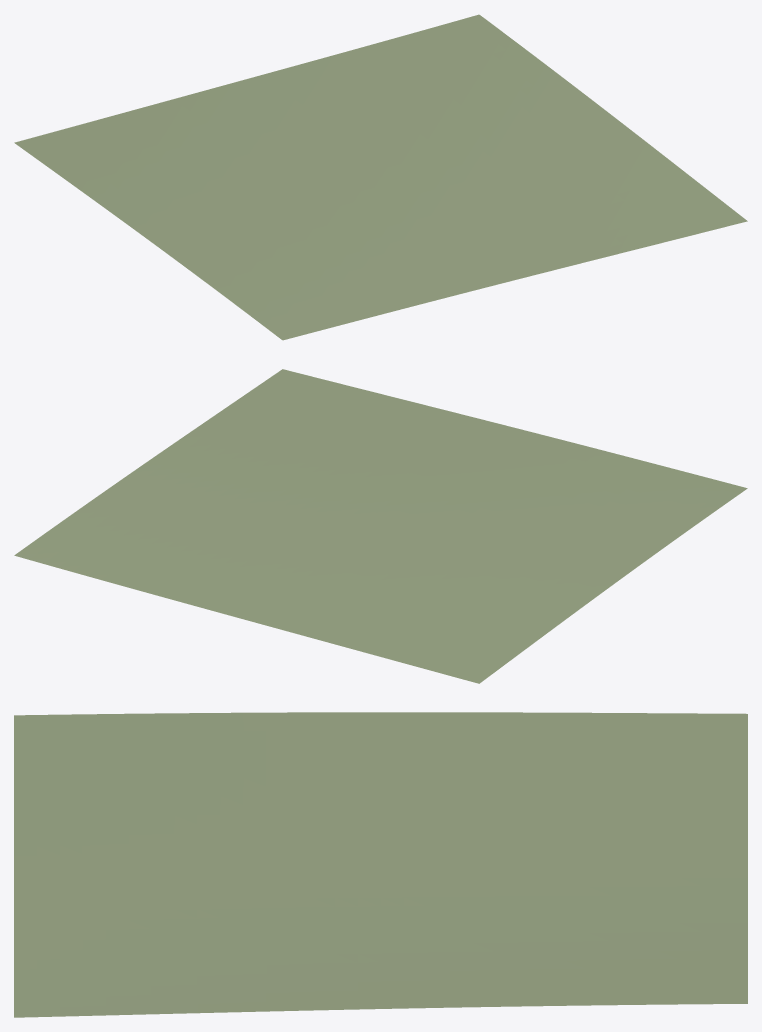
Rendered from expanse-20-18.glb.
3 views of the same model, one above another, from view 1: azimuth 30°, elevation 25°; view 2: azimuth 150°, elevation 25°; view 3: azimuth 270°, elevation 25° (orthographic). The views are drawn at different scales.
Parts seen in each view (by area): view 1: expanse-20-18; view 2: expanse-20-18; view 3: expanse-20-18.
Part boxes in pixels (<box>): expanse-20-18: <box>14,14,747,340</box>; expanse-20-18: <box>14,369,747,683</box>; expanse-20-18: <box>14,712,747,1017</box>.
Size of the model in its own units: 256 by 8.34 by 256.
